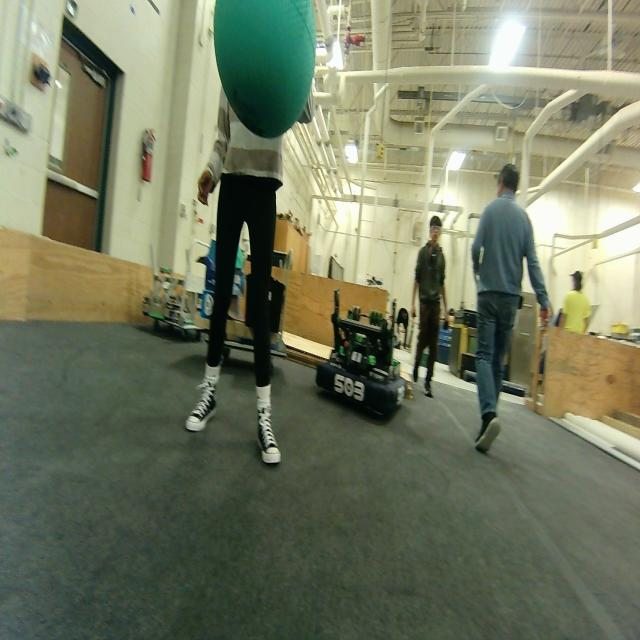algae: (205, 0, 316, 139)
